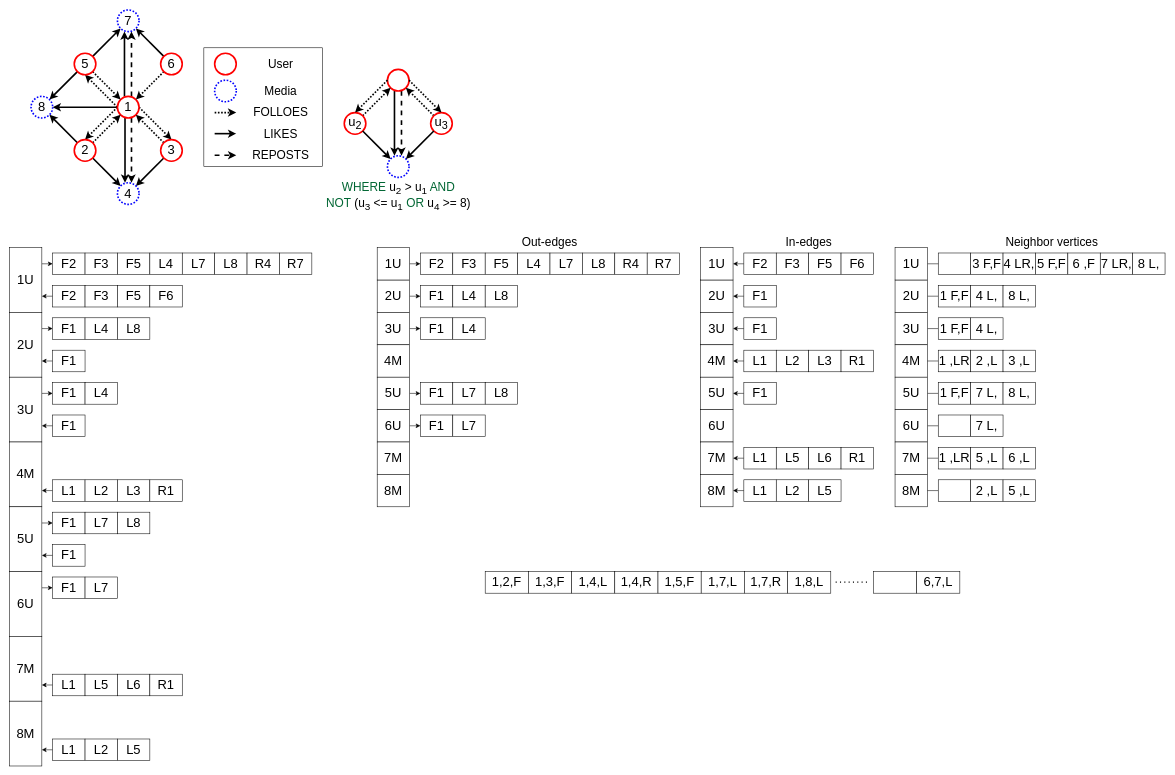
The diagram is 1175 pixels wide and 775 high, and some of its shapes have lost their labels. The shapes that lost their labels are listed below. From the top down, each one's centre as x and y in pixels, then its label:
(x=398, y=80): u 1
(x=398, y=166): u 4
(x=954, y=263): 2 F,F
(x=954, y=425): 1 F,
(x=954, y=490): 1 ,L
(x=895, y=582): 6,1,F
